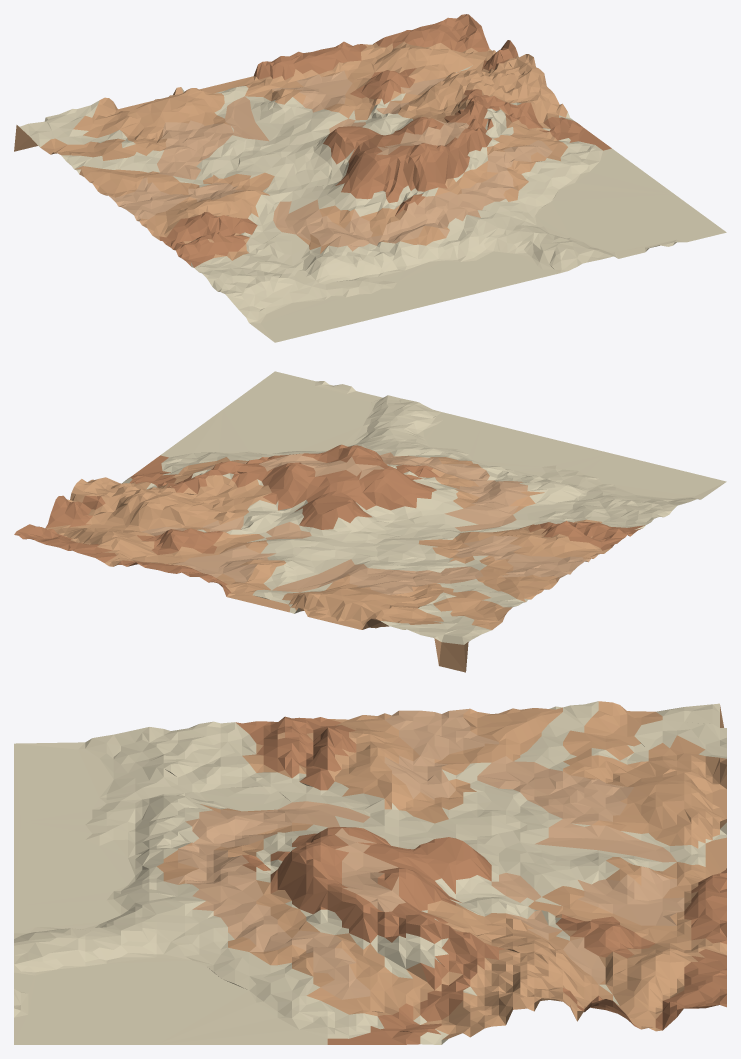
The model's file is terrain.FBX.
3 views of the same model, one above another, from view 1: azimuth 30°, elevation 25°; view 2: azimuth 150°, elevation 25°; view 3: azimuth 270°, elevation 25° (orthographic). The views are drawn at different scales.
Visible parts, largest first — view 1: Plane001; view 2: Plane001; view 3: Plane001.
Part boxes in pixels (x1,y1,x2,y2): Plane001: (14,14,726,342); Plane001: (14,371,726,672); Plane001: (14,701,726,1044).
Bounding box in the file's own units: 253 × 253 × 28.73.
